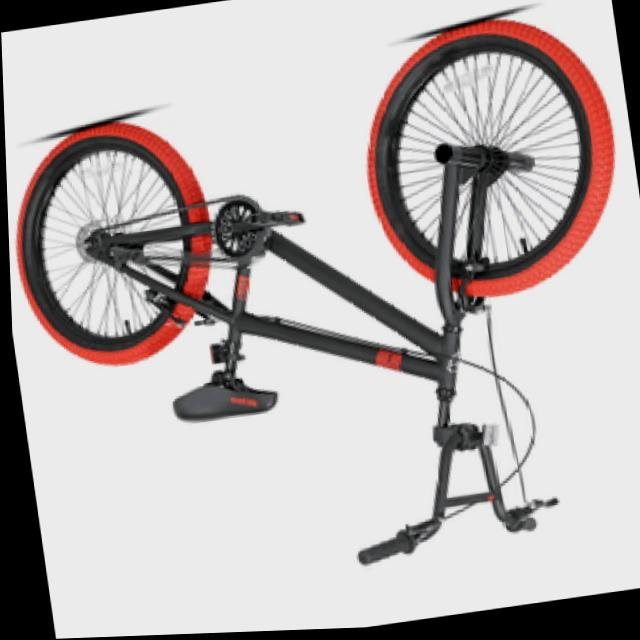bmx-bike: (1, 7, 640, 610)
